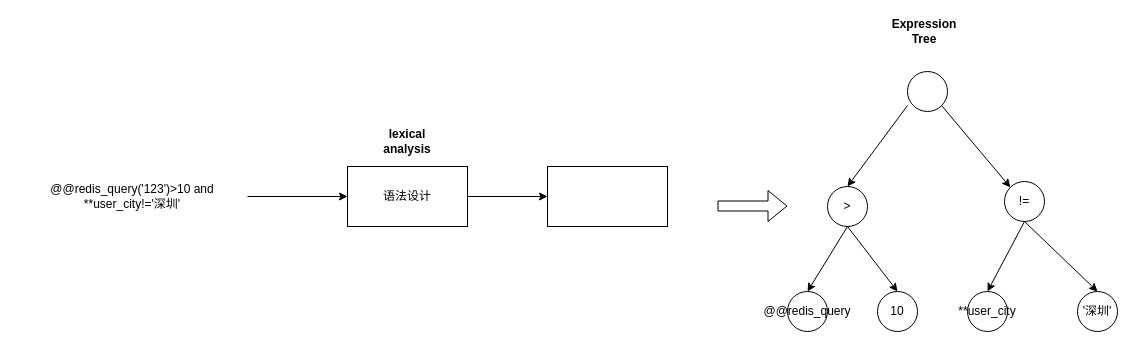
Some shapes in this 1135 by 349 pixel diagram are drawn without their labels. Here are the shapes that lost their labels. From the top down, the centre of each, then its label:
At point (927, 91): "And".
At point (607, 196): "code Gen".
